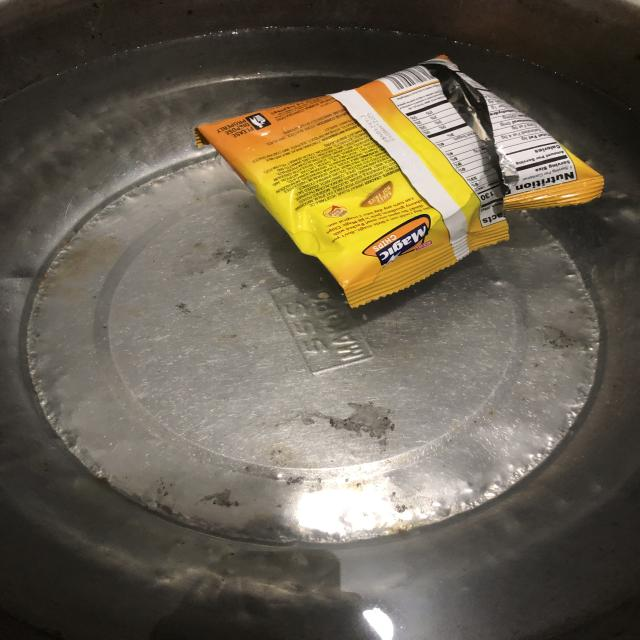Plastic Wrapper: (174, 53, 607, 313)
